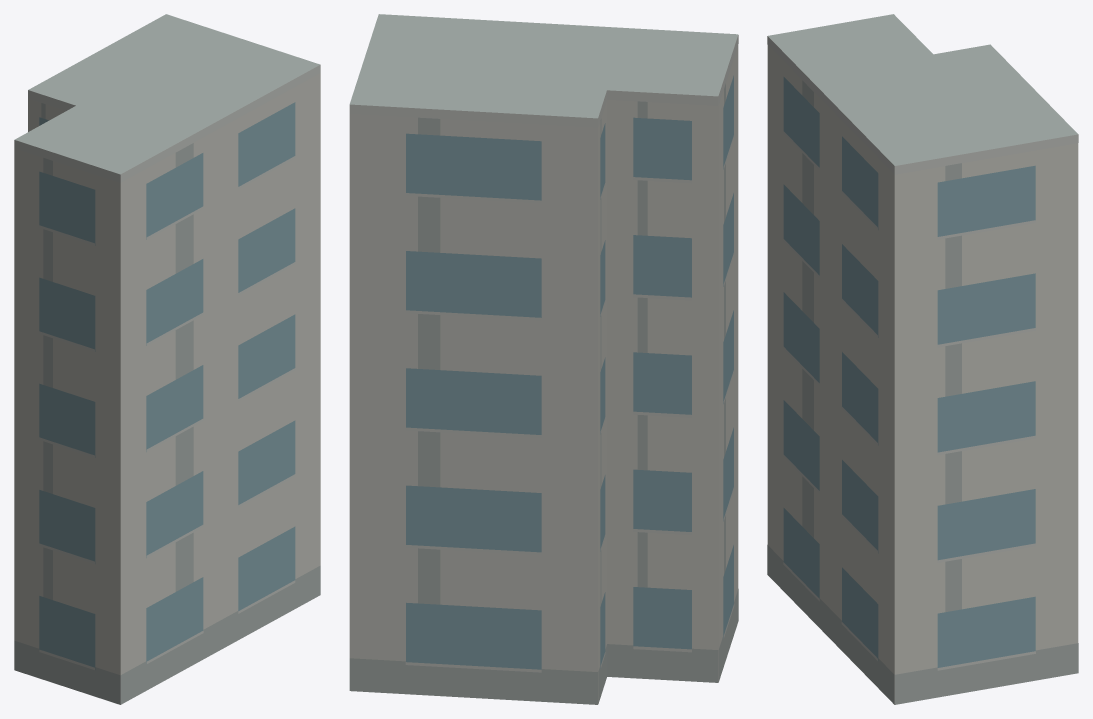
The model's file is survey-upis-32704660.glb.
3 renders of one model, left to right at view 1: azimuth 30°, elevation 25°; view 2: azimuth 150°, elevation 25°; view 3: azimuth 270°, elevation 25°, orthographic. The views are drawn at different scales.
Parts seen in each view (by area): view 1: survey-upis-32704660.tmp; view 2: survey-upis-32704660.tmp; view 3: survey-upis-32704660.tmp.
Part boxes in pixels (box(x1,y1,x2,y2)): survey-upis-32704660.tmp: box(14, 14, 320, 704); survey-upis-32704660.tmp: box(349, 14, 738, 704); survey-upis-32704660.tmp: box(767, 14, 1078, 704).
Bounding box in the file's own units: 9.24 × 15.25 × 7.99.
